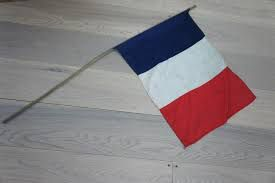French Flag: (113, 10, 258, 149)
